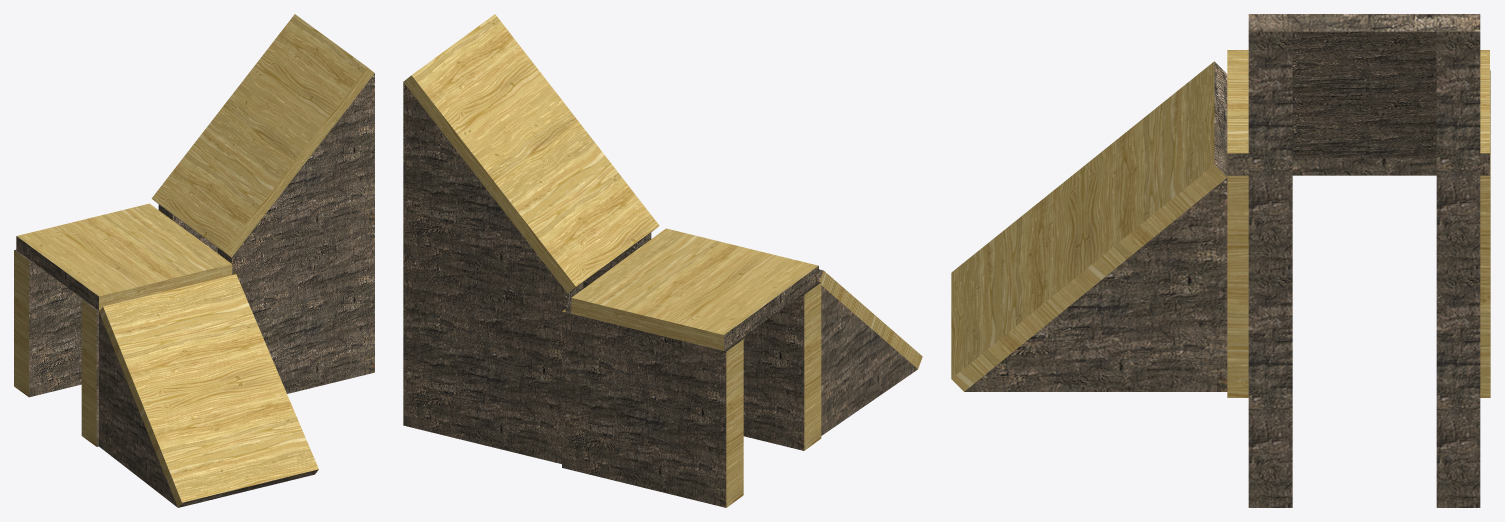
The model's file is construction_wood_stairs_L_mesh_lod2.fbx.
The picture shows the model from 3 angles, left to right: view 1: azimuth 30°, elevation 25°; view 2: azimuth 150°, elevation 25°; view 3: azimuth 270°, elevation 25°; orthographic projection. The views are drawn at different scales.
Visible parts, largest first — view 1: construction_wood_stairs_L_mesh; view 2: construction_wood_stairs_L_mesh; view 3: construction_wood_stairs_L_mesh.
Boxes of the visible parts, <box> form: construction_wood_stairs_L_mesh: <box>14,14,374,507</box>; construction_wood_stairs_L_mesh: <box>403,14,922,507</box>; construction_wood_stairs_L_mesh: <box>951,14,1490,507</box>.
Bounding box in the file's own units: 300 × 308 × 308.
